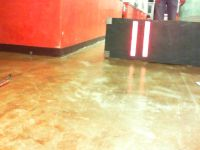switch: (130, 21, 138, 57), (142, 21, 150, 57)
